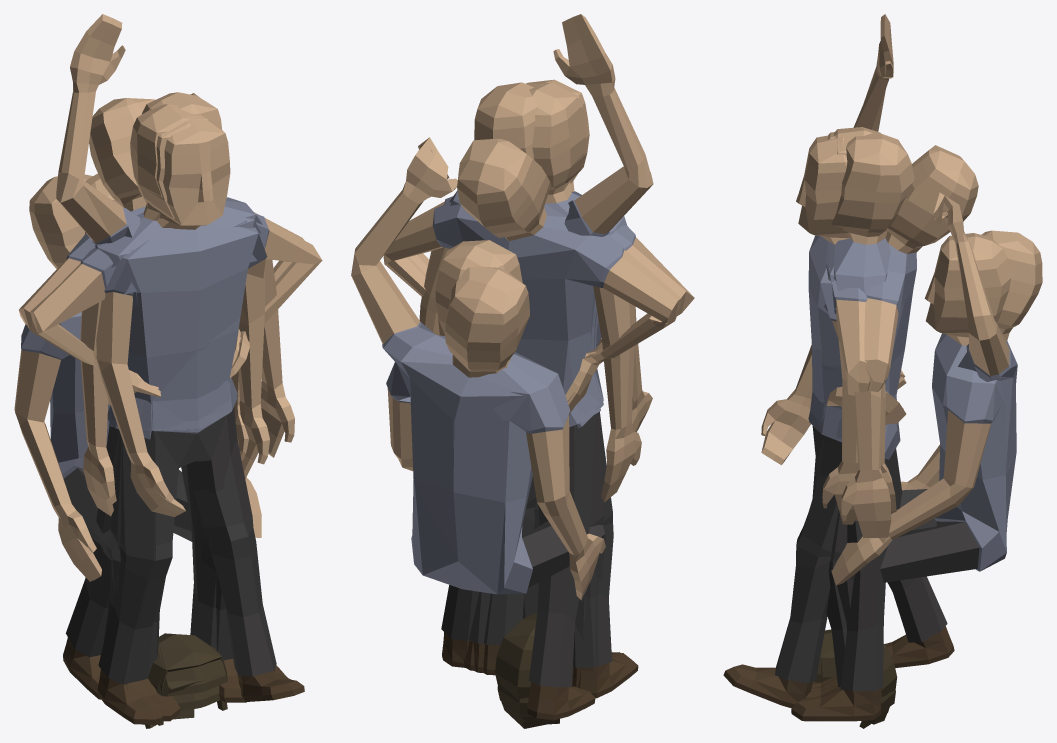
The model's file is male.glb.
3 views of the same model, side by side, from view 1: azimuth 30°, elevation 25°; view 2: azimuth 150°, elevation 25°; view 3: azimuth 270°, elevation 25° (orthographic). The views are drawn at different scales.
Parts seen in each view (by area): view 1: Walking, Standing_Hips, Standing, LookingUp, Standing_Waving, Sitting, Sitting_Cheering, Hair_3, Hair_1, Hair_4; view 2: Sitting_Cheering, LookingUp, Sitting, Standing_Waving, Standing, Walking, Standing_Hips, Hair_3; view 3: Walking, Standing_Waving, Sitting, Sitting_Cheering, LookingUp, Standing_Hips, Standing, Hair_3.
Part boxes in pixels (x1,y1,x2,y2): Walking: (63,115,304,701); Standing_Hips: (30,121,322,724); Standing: (80,104,269,702); LookingUp: (19,98,304,723); Standing_Waving: (56,14,294,723); Sitting: (16,173,261,711); Sitting_Cheering: (14,93,199,721); Hair_3: (148,633,227,696); Hair_1: (145,638,227,728); Hair_4: (172,685,220,710); Sitting_Cheering: (351,137,606,681); LookingUp: (383,138,681,686); Sitting: (386,240,611,684); Standing_Waving: (419,14,653,687); Standing: (483,83,641,675); Walking: (438,79,652,720); Standing_Hips: (406,82,694,698); Hair_3: (495,616,555,728); Walking: (723,135,954,708); Standing_Waving: (791,14,914,721); Sitting: (811,233,1016,699); Sitting_Cheering: (837,192,1042,693); LookingUp: (808,145,978,688); Standing_Hips: (805,132,905,705); Standing: (811,127,881,694); Hair_3: (814,632,897,724).
Size of the model in its own units: 1.99 by 4.74 by 2.01.
